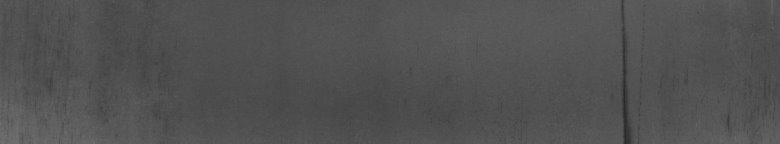hd: (612, 4, 636, 136)
